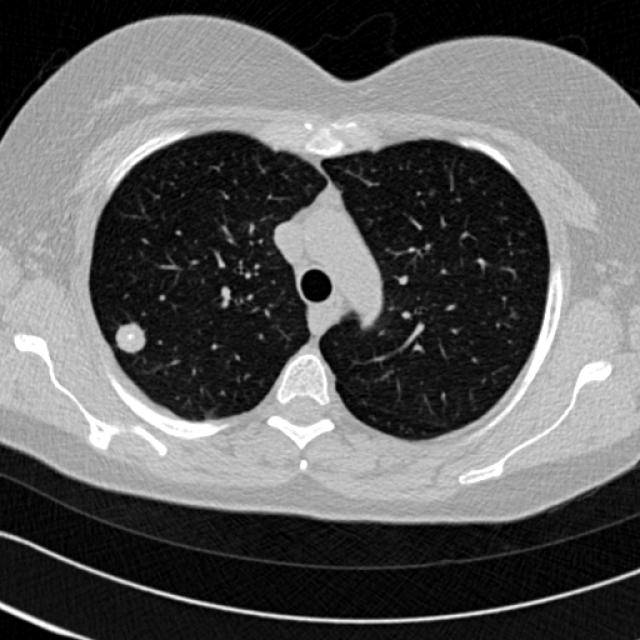nodule: (96, 304, 162, 368)
